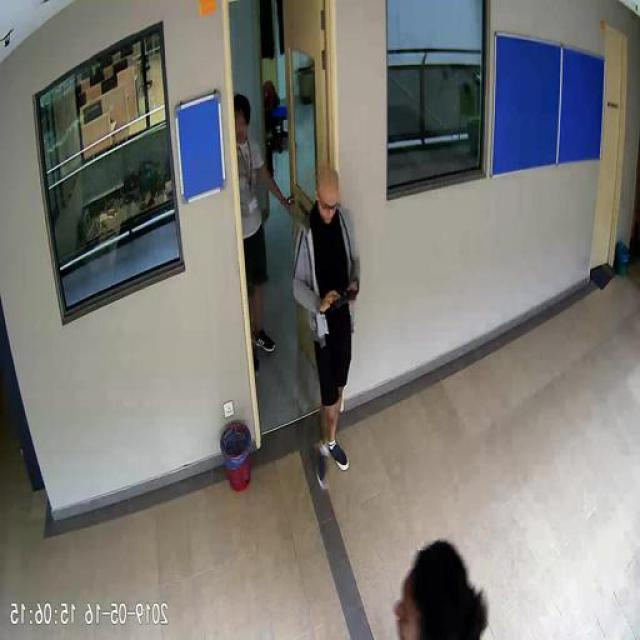Gun: (334, 282, 358, 308)
